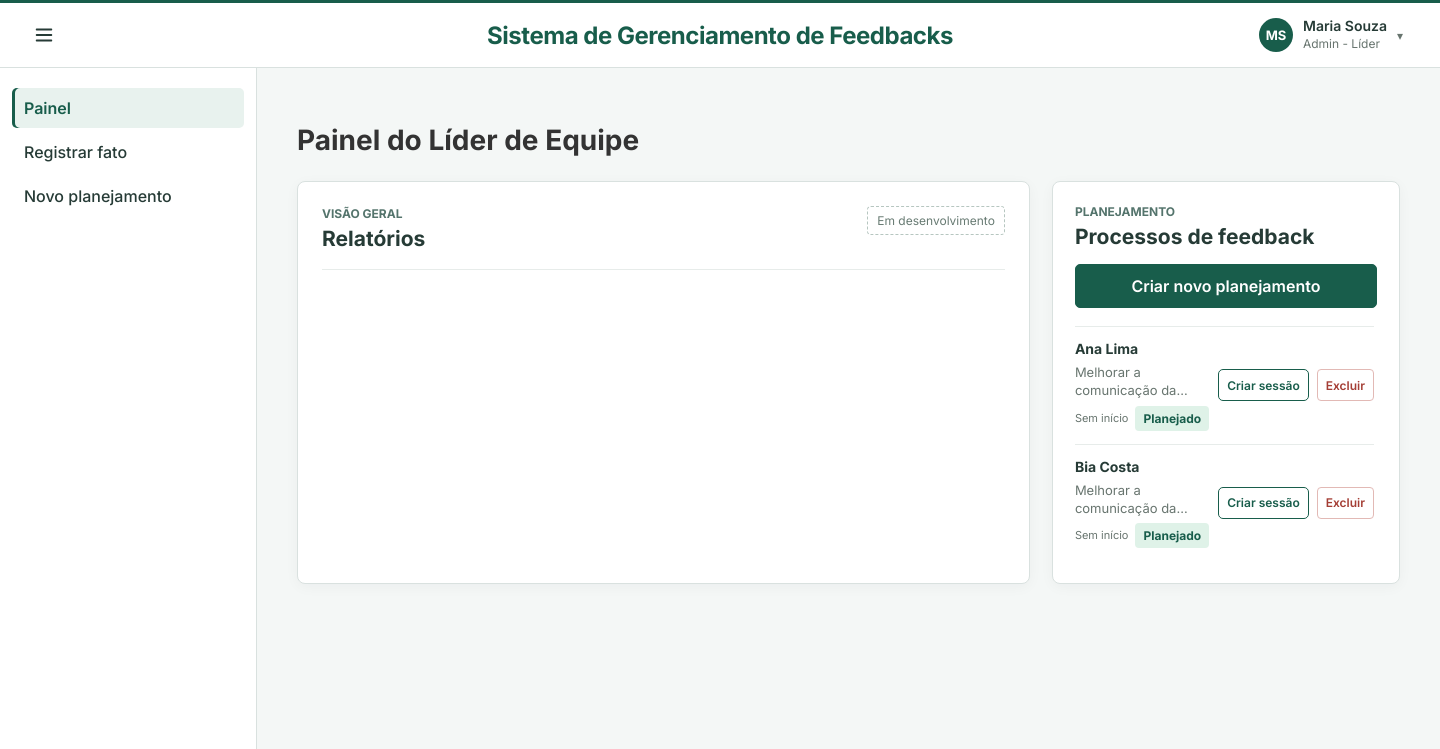
it: Dashboard › deve criar a sessão do processo escolhido e confirmar na tela
Click the 1st button "Criar sessão" at (1264, 385), box [1218,369,1309,401]
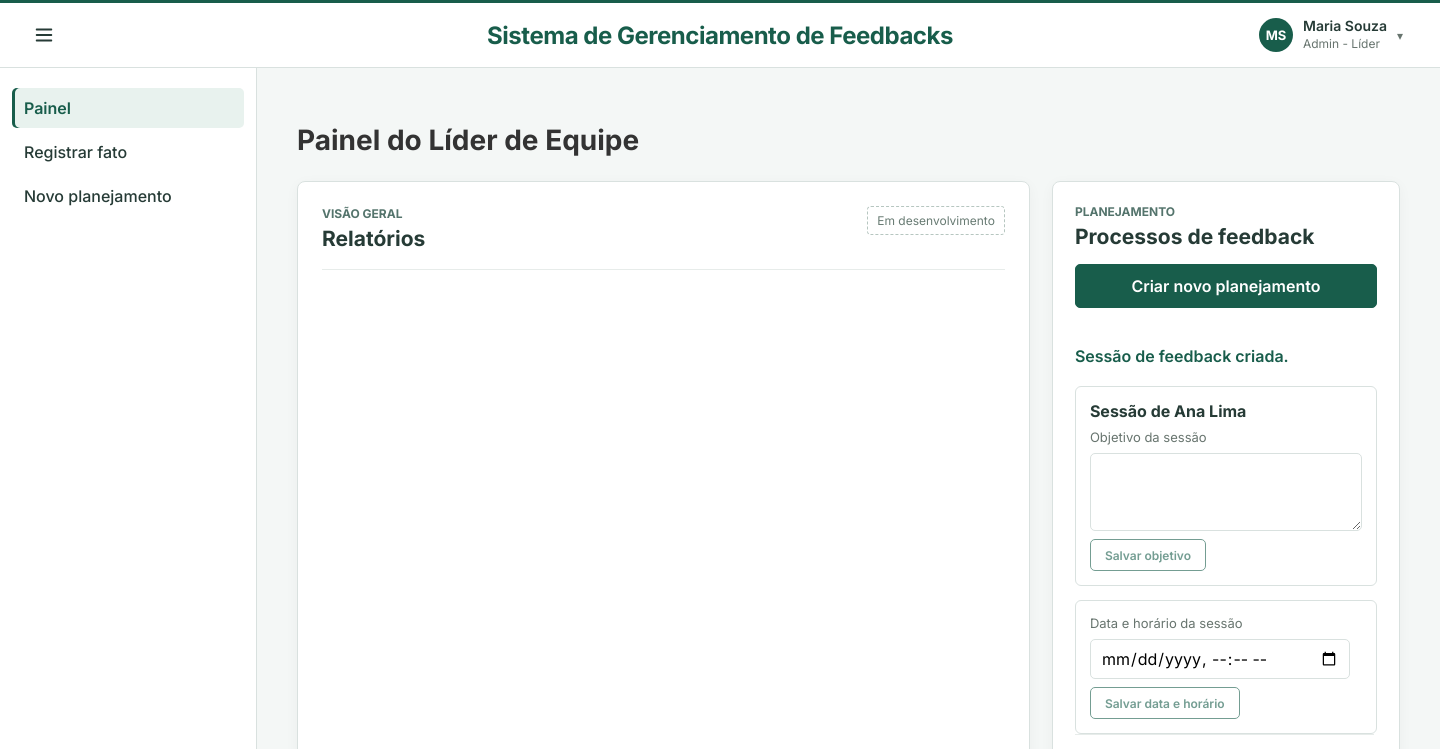
Expected: the text "Sessão de feedback criada." is shown, [1075,346,1289,366]
